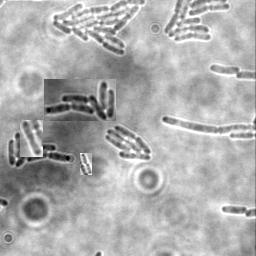Dividing: (161, 114, 255, 133), (221, 204, 248, 215), (80, 153, 92, 175)
Microcolony: (51, 1, 147, 56), (44, 79, 116, 121), (162, 1, 231, 44), (8, 130, 72, 167), (106, 124, 153, 160), (208, 63, 240, 74)
Rod: (20, 120, 43, 157)
